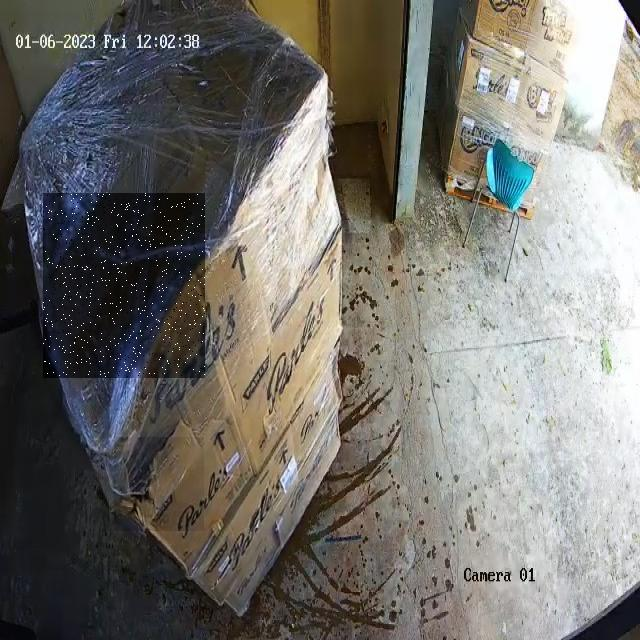leakage: (114, 437, 204, 530)
squeeze: (43, 193, 205, 377)
